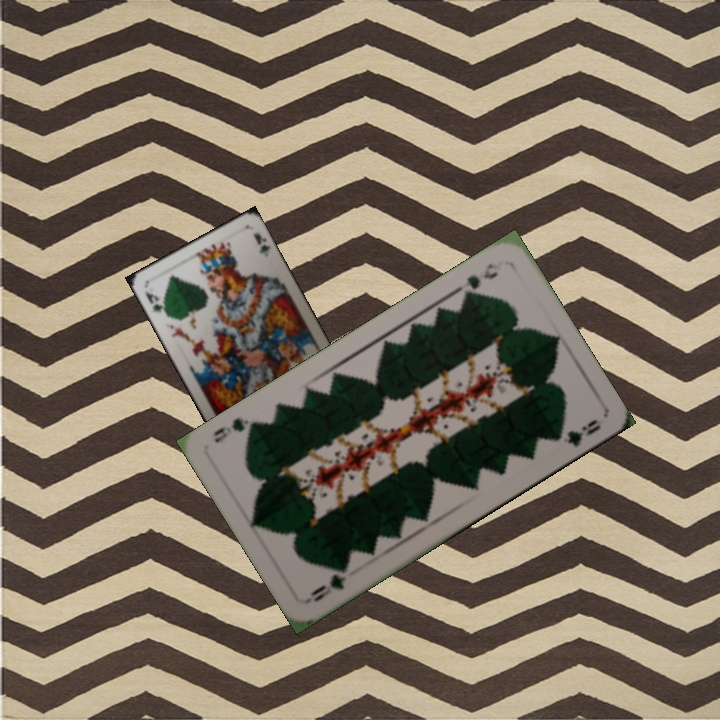G9: (452, 257, 506, 301), (306, 561, 351, 605)
GK: (141, 287, 170, 317)
